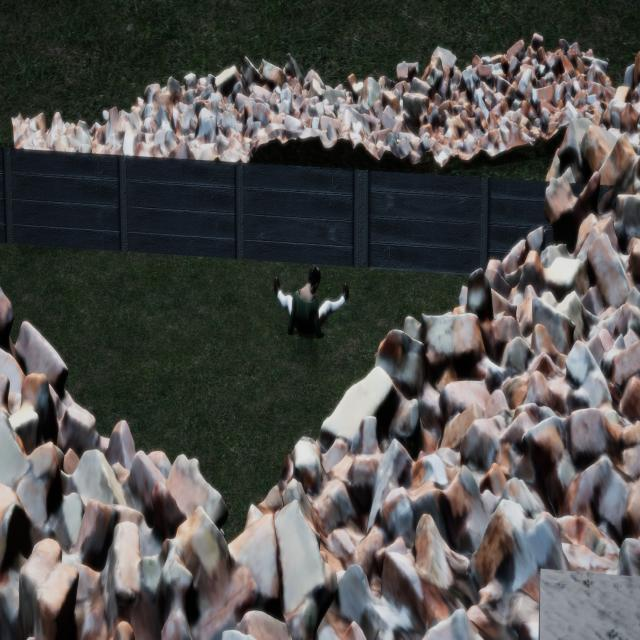Human: (270, 252, 352, 338)
